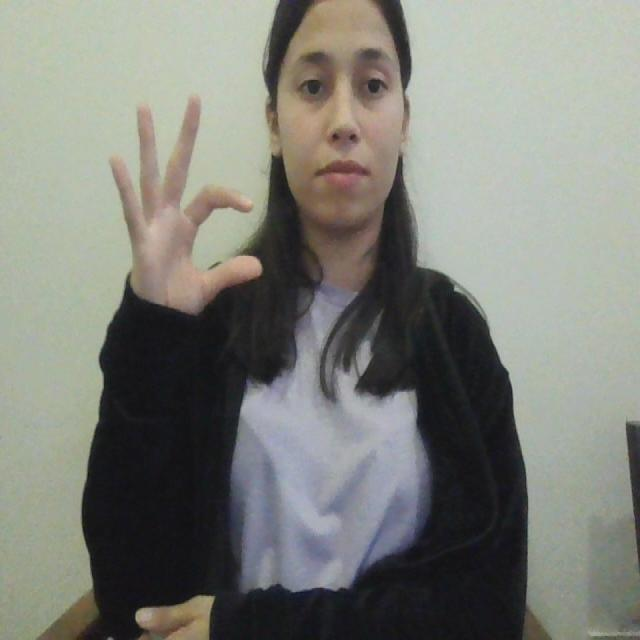Tuvalet: (93, 84, 274, 337)
